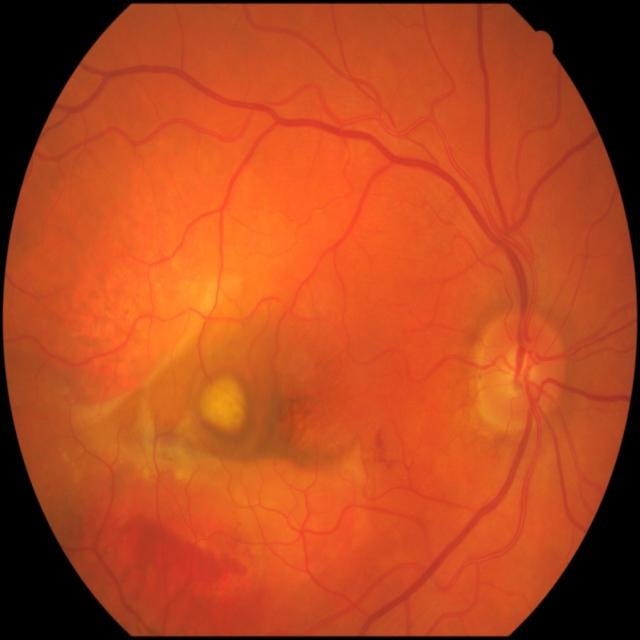OC: (500, 345, 537, 399)
OD: (474, 312, 564, 428)
